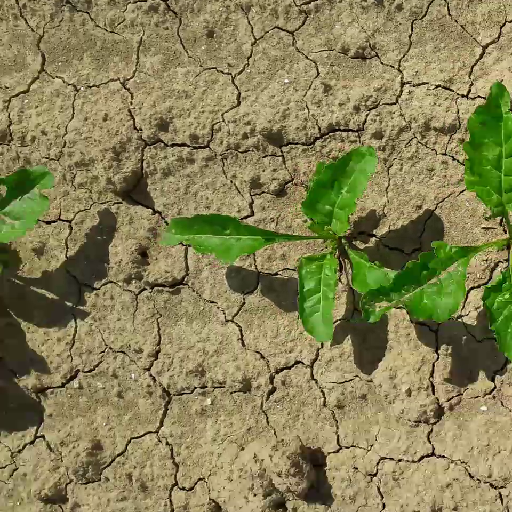sugarbeet: (158, 144, 404, 345), (354, 82, 511, 365)
